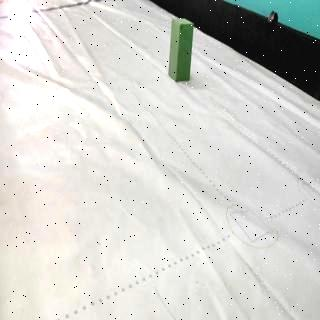greenbox: (167, 16, 195, 82)
